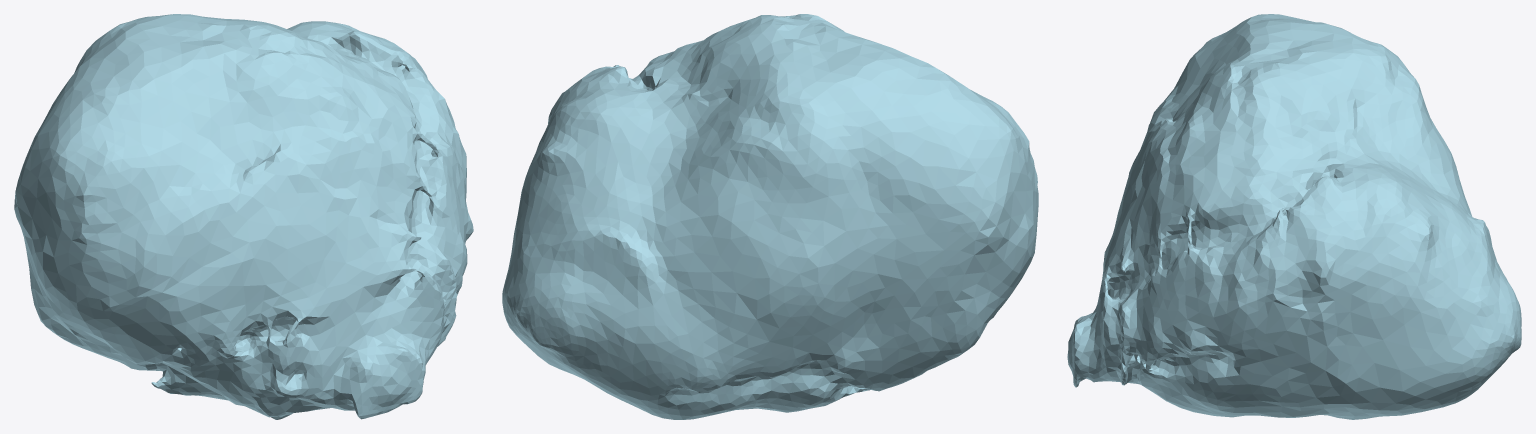
File: livertumor.obj
The picture shows the model from 3 angles, left to right: view 1: azimuth 30°, elevation 25°; view 2: azimuth 150°, elevation 25°; view 3: azimuth 270°, elevation 25°; orthographic projection. The views are drawn at different scales.
Visible parts, largest first — view 1: grp1; view 2: grp1; view 3: grp1.
Part boxes in pixels (x1,y1,x2,y2): grp1: (14, 14, 473, 419); grp1: (502, 14, 1038, 419); grp1: (1067, 14, 1521, 419).
Size of the model in its own units: 78.56 by 60.33 by 75.99.
